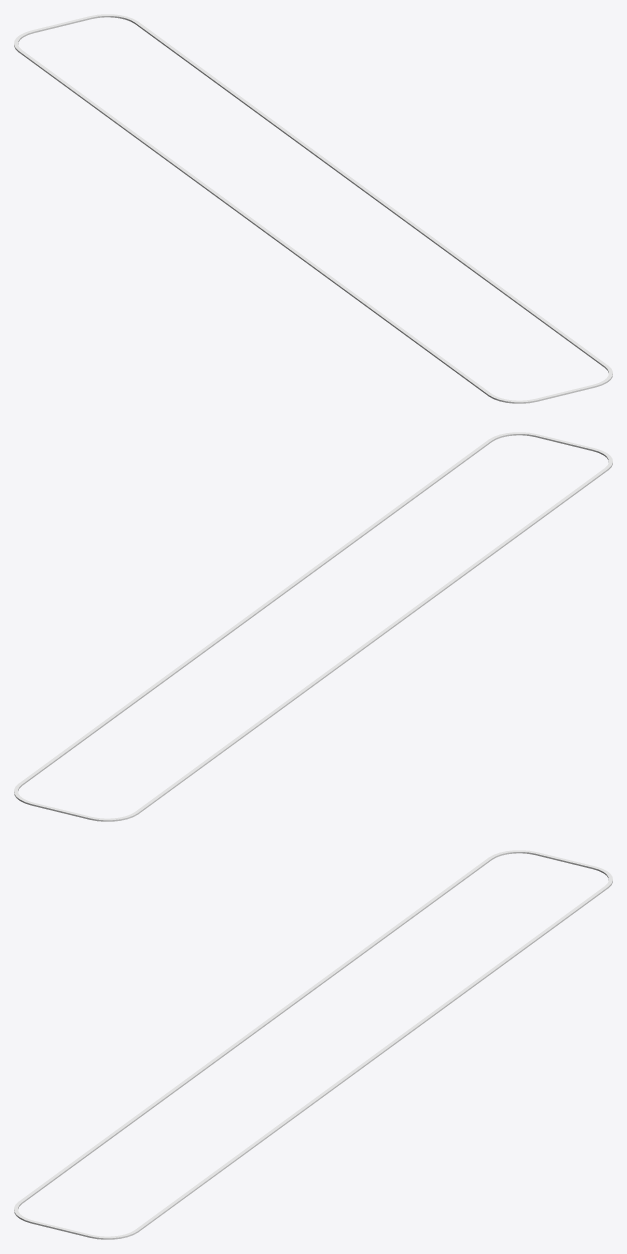
The model's file is Riel.FBX.
3 renders of one model, top to bottom at view 1: azimuth 30°, elevation 25°; view 2: azimuth 150°, elevation 25°; view 3: azimuth 330°, elevation 25°, orthographic.
Parts seen in each view (by area): view 1: riel; view 2: riel; view 3: riel.
Part boxes in pixels (<box>): riel: <box>14,14,612,403</box>; riel: <box>14,432,612,821</box>; riel: <box>14,850,612,1239</box>.
Size of the model in its own units: 412 by 5 by 3012.
1 material, 1 textured.
